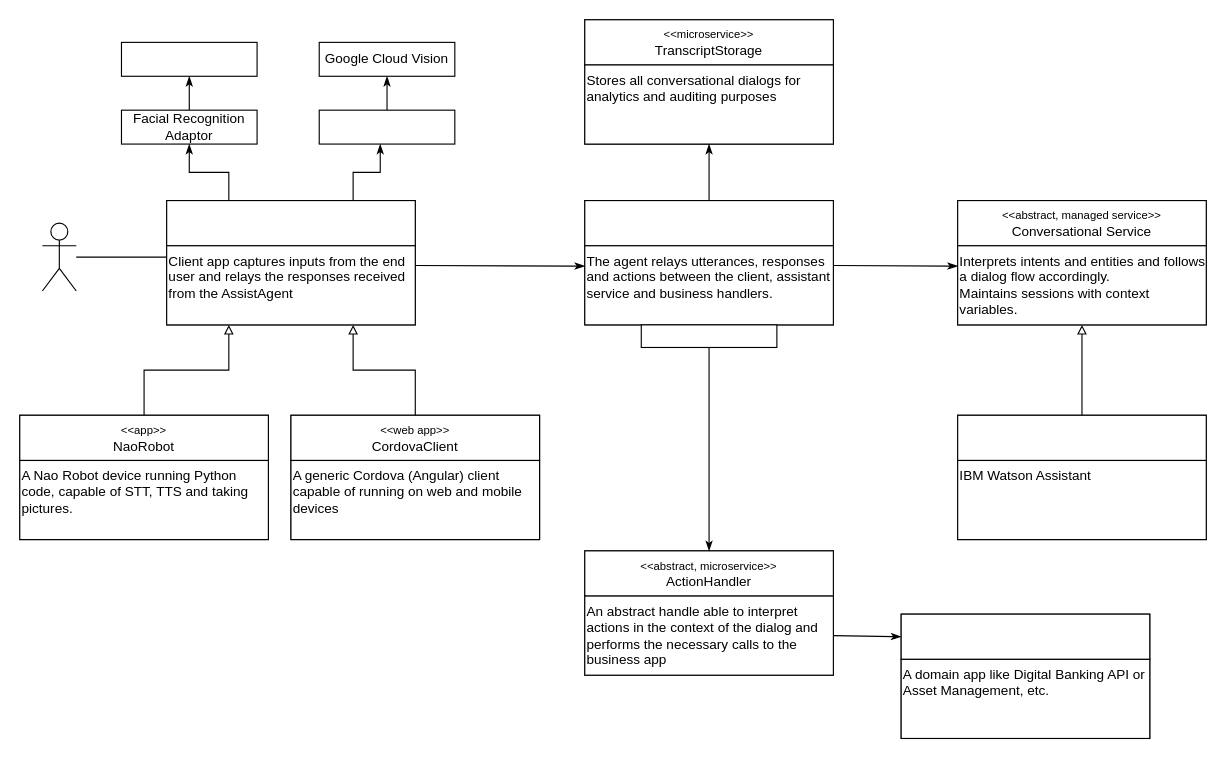
This 1226x758 diagram has some shape labels left out. The shapes that lost their labels are listed below. From the top down, each one's centre as x and y in pixels, then its label:
At point (188, 58): "Kairos".
At point (386, 126): "OCR Adaptor".
At point (290, 222): "<<abstract>> ClientApp".
At point (708, 222): "<<microservice>> AssistAgent".
At point (58, 256): "End User".
At point (708, 335): "handler".
At point (1081, 437): "<<managed service>> Watson Assistant".
At point (1025, 636): "<<abstract, external>> DomainApp".
